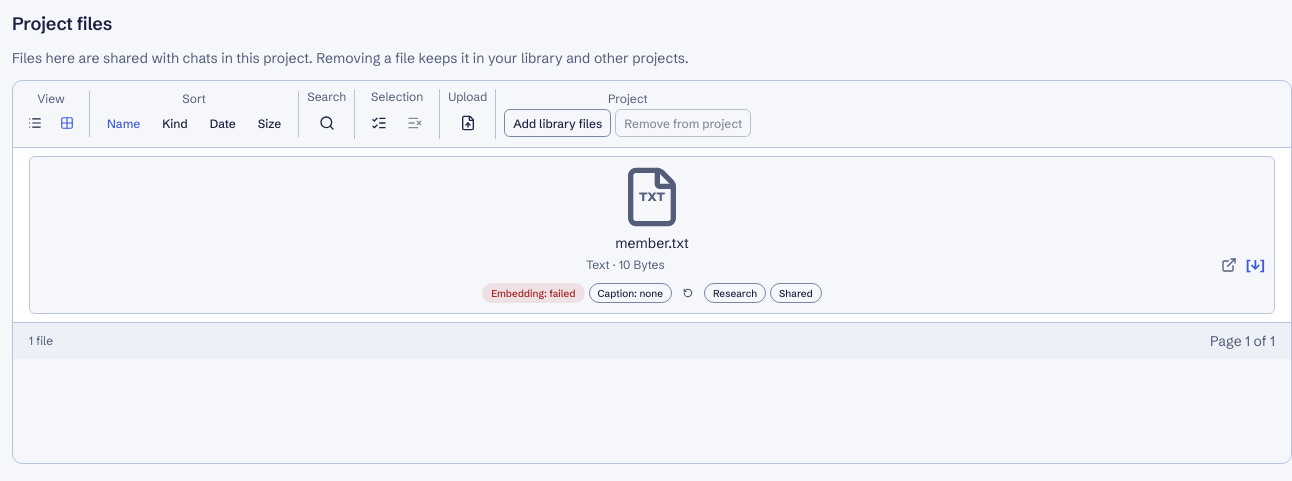
Test: clears selection when changing the page or search
Click the button "member.txt": (652, 235) [29,156,1275,314]
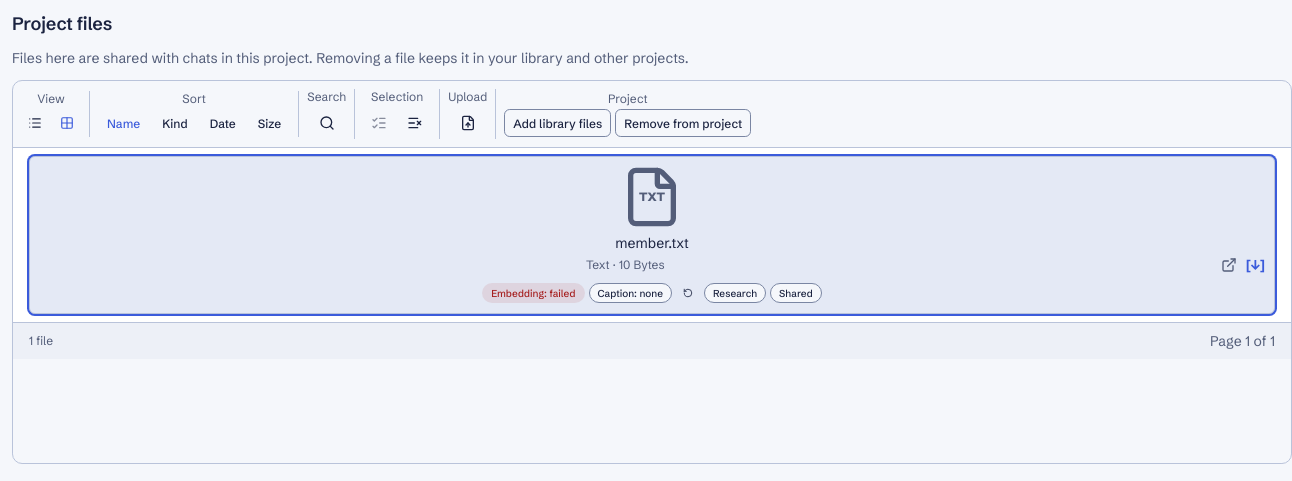
Check: the button "Remove from project" is enabled, box [615,109,751,137]
Click the button named "Toggle Search": (327, 123) [311,107,343,139]
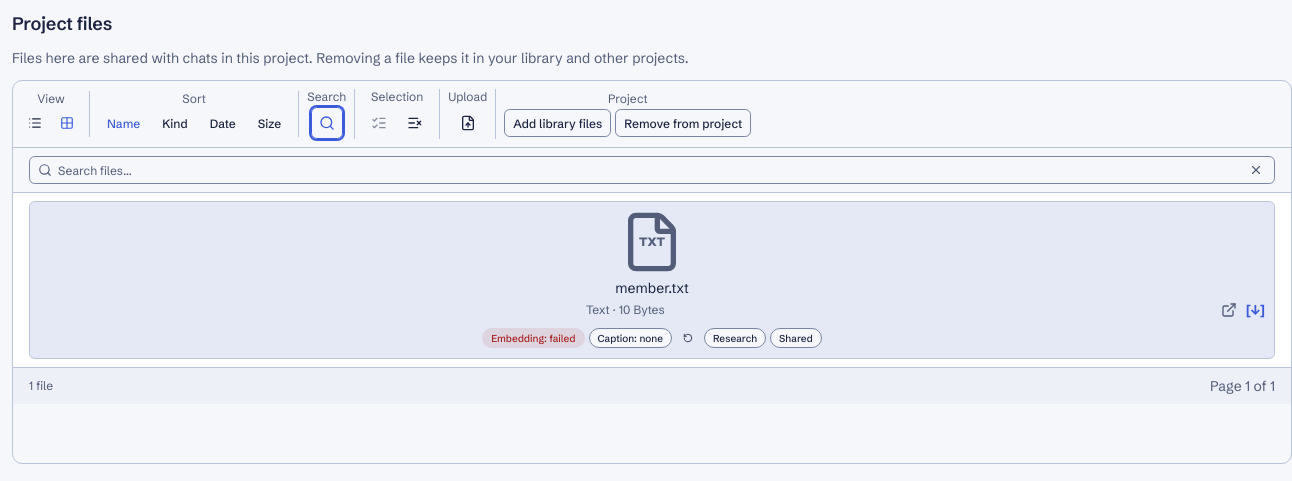
In the field labelled "Search files": (647, 170) [52,156,1242,184], type "new"
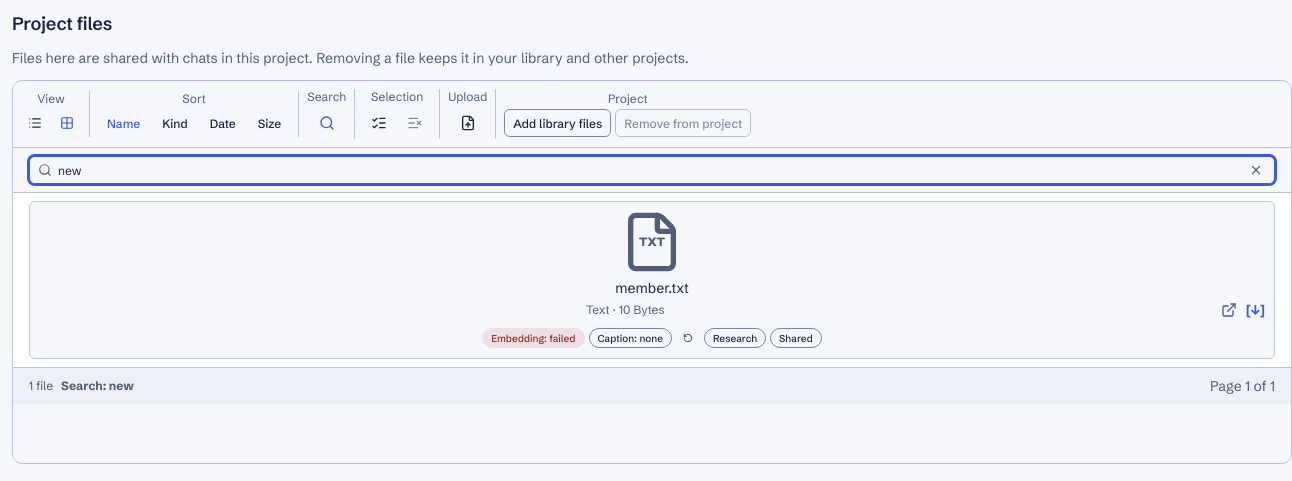
Check: the button "Remove from project" is disabled, box [615,109,751,137]
